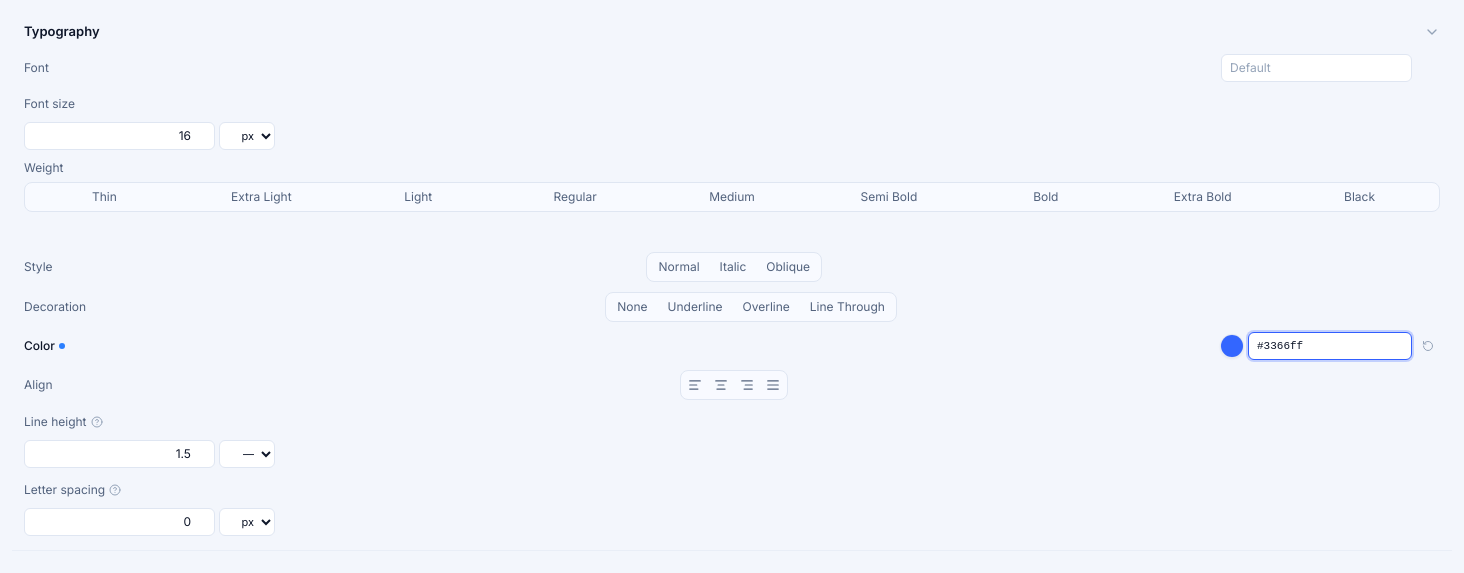
Test: InspectorTypographySection › Text color edit sessions against the real store (BC-01.2) › an invalid color shows the error and leaves the document and history untouched
Replace the text in the field named "Text color" with "#12" at (1330, 346), box [1248,332,1412,360]
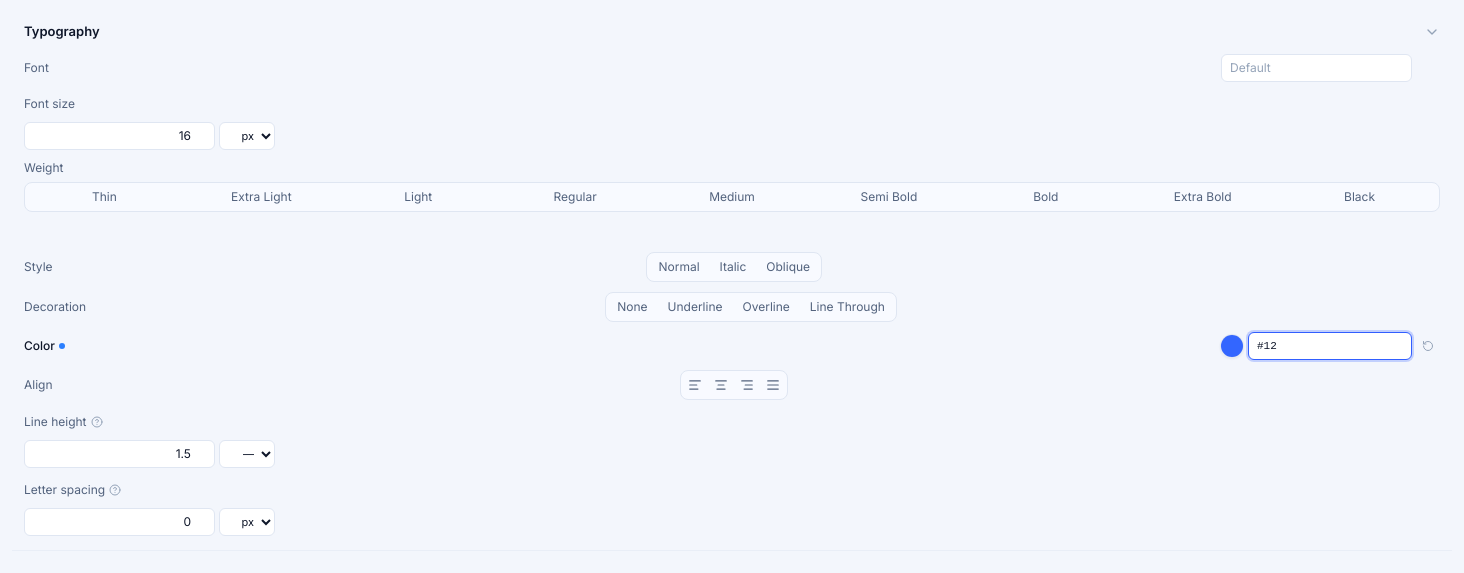
Press Enter in the field named "Text color", box [1248,332,1412,360]
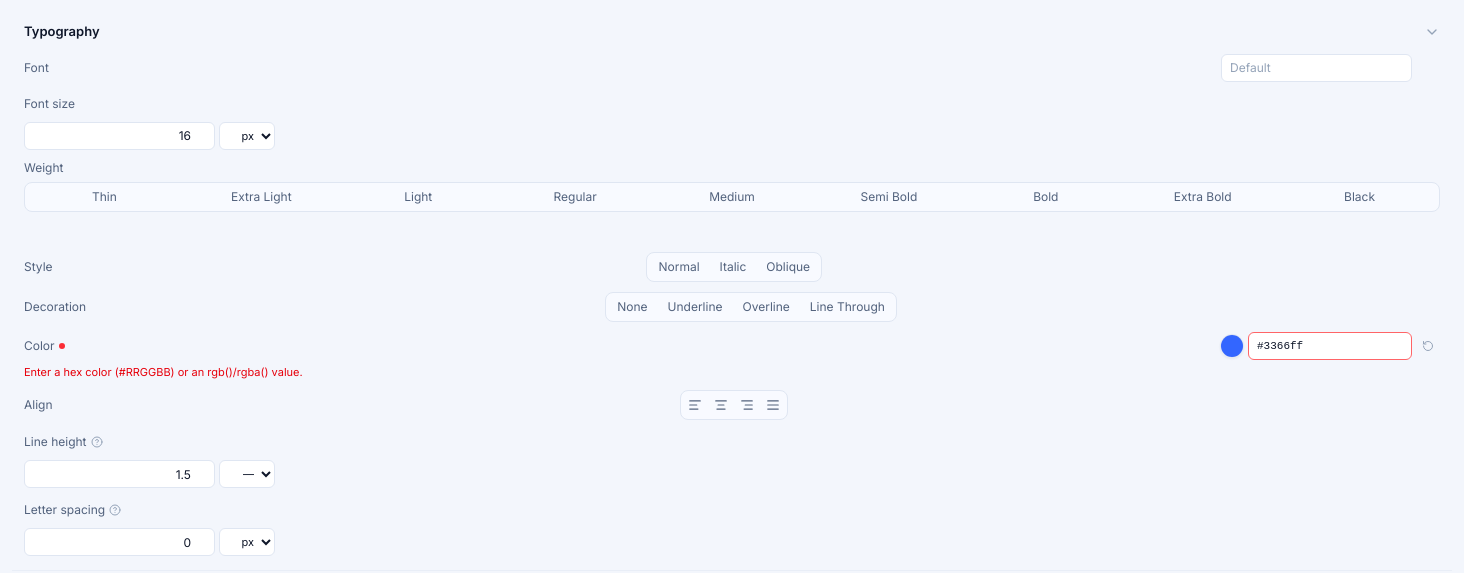
Expected: the text "Enter a hex color (#RRGGBB) or an rgb()/rgba() value." is shown, [24,364,303,378]
